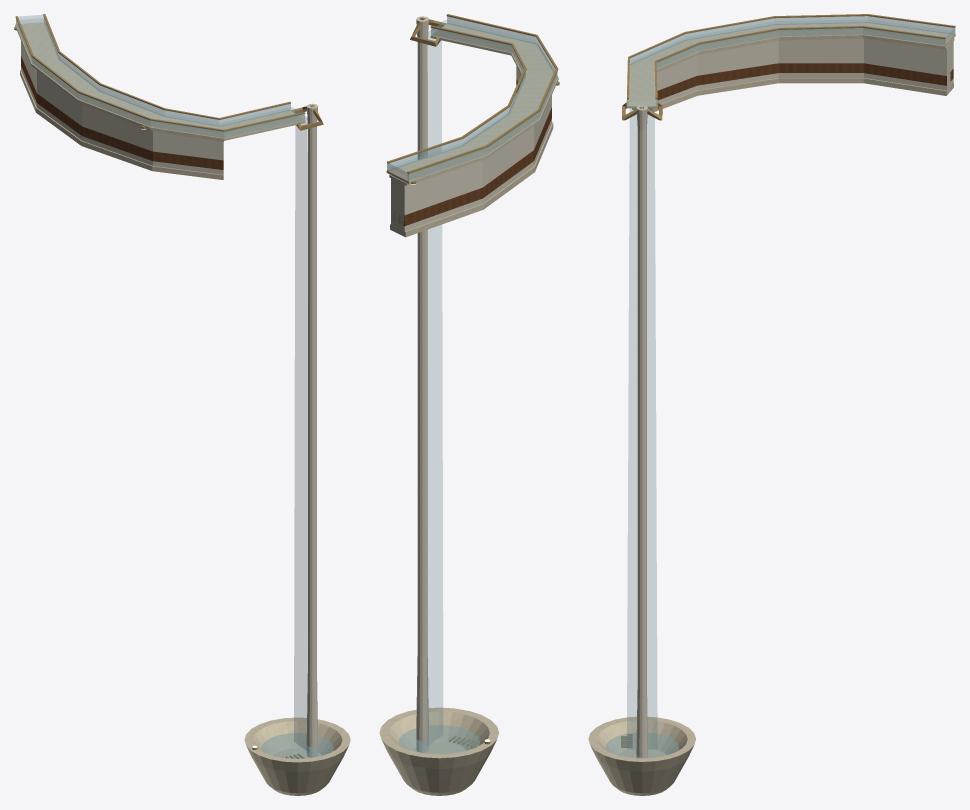
File: AST-AQU-015.glb
3 renders of one model, left to right at view 1: azimuth 30°, elevation 25°; view 2: azimuth 150°, elevation 25°; view 3: azimuth 270°, elevation 25°, orthographic. The views are drawn at different scales.
Parts seen in each view (by area): view 1: WAT_visual_fall, WAT_ConcealedReturnSpine, WAT_ReceiverBody, WAT_StoneChannelFloor, WAT_SculptedSupportCabinet, WAT_visual_trough, WAT_RecessedTimberWaist, WAT_GlassBank_-1, WAT_GlassBank_1, WAT_visual_receiver, WAT_WeightedPlinth, WAT_BankRim_-1 (+1 smaller); view 2: WAT_visual_fall, WAT_ConcealedReturnSpine, WAT_ReceiverBody, WAT_StoneChannelFloor, WAT_SculptedSupportCabinet, WAT_visual_trough, WAT_GlassBank_-1, WAT_GlassBank_1, WAT_RecessedTimberWaist, WAT_visual_receiver, WAT_WeightedPlinth, WAT_BankRim_-1 (+1 smaller); view 3: WAT_visual_fall, WAT_SculptedSupportCabinet, WAT_ConcealedReturnSpine, WAT_ReceiverBody, WAT_StoneChannelFloor, WAT_visual_trough, WAT_RecessedTimberWaist, WAT_GlassBank_-1, WAT_GlassBank_1, WAT_WeightedPlinth, WAT_visual_receiver, WAT_BankRim_-1 (+1 smaller).
Part boxes in pixels (x1,y1,x2,y2): WAT_visual_fall: (294,108,308,751); WAT_ConcealedReturnSpine: (306,103,317,757); WAT_ReceiverBody: (244,717,350,795); WAT_StoneChannelFloor: (15,22,305,140); WAT_SculptedSupportCabinet: (21,41,223,174); WAT_visual_trough: (19,18,298,129); WAT_RecessedTimberWaist: (21,56,223,169); WAT_GlassBank_-1: (16,19,304,138); WAT_GlassBank_1: (43,17,290,126); WAT_visual_receiver: (261,733,333,758); WAT_WeightedPlinth: (20,70,223,179); WAT_BankRim_-1: (15,16,305,131); WAT_visual_fall: (426,21,443,746); WAT_ConcealedReturnSpine: (416,16,428,752); WAT_ReceiverBody: (379,707,498,795); WAT_StoneChannelFloor: (386,23,558,183); WAT_SculptedSupportCabinet: (391,66,551,236); WAT_visual_trough: (390,20,553,175); WAT_GlassBank_-1: (408,16,557,181); WAT_GlassBank_1: (387,28,525,170); WAT_RecessedTimberWaist: (394,79,551,225); WAT_visual_receiver: (398,725,479,754); WAT_WeightedPlinth: (390,95,553,237); WAT_BankRim_-1: (407,14,558,173); WAT_visual_fall: (627,102,657,749); WAT_SculptedSupportCabinet: (633,38,953,109); WAT_ConcealedReturnSpine: (636,105,647,758); WAT_ReceiverBody: (588,716,695,795); WAT_StoneChannelFloor: (626,22,955,108); WAT_visual_trough: (630,19,953,101); WAT_RecessedTimberWaist: (657,63,953,100); WAT_GlassBank_-1: (627,16,954,105); WAT_GlassBank_1: (655,28,945,106); WAT_WeightedPlinth: (632,78,953,111); WAT_visual_receiver: (605,732,678,758); WAT_BankRim_-1: (627,14,955,99).
Size of the model in its own units: 6.1 by 19.94 by 9.54.
6 materials, 4 textured.
